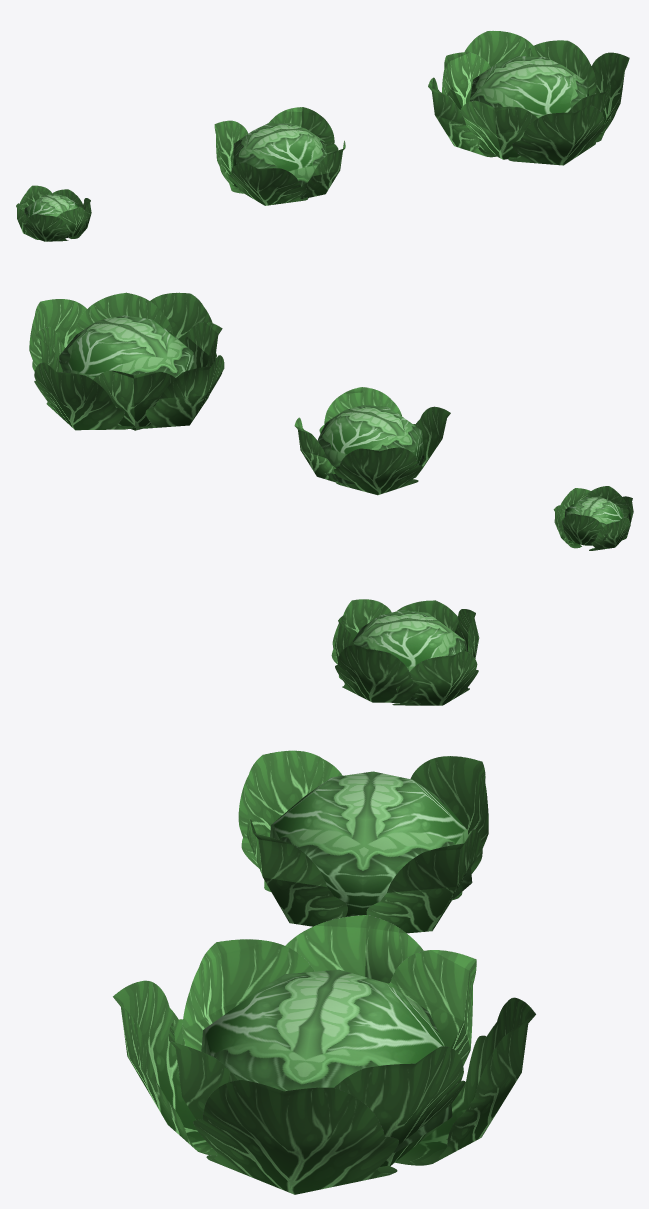
The model's file is Cabbage_Green_Lv.FBX.
3 views of the same model, one above another, from view 1: azimuth 30°, elevation 25°; view 2: azimuth 150°, elevation 25°; view 3: azimuth 270°, elevation 25° (orthographic). The views are drawn at different scales.
Parts seen in each view (by area): view 1: Cabbage_Green_Lv3, Cabbage_Green_Lv2, Cabbage_Green_Lv1; view 2: Cabbage_Green_Lv3, Cabbage_Green_Lv2, Cabbage_Green_Lv1; view 3: Cabbage_Green_Lv3, Cabbage_Green_Lv2, Cabbage_Green_Lv1.
Part boxes in pixels (x1=…): Cabbage_Green_Lv3: x1=428, y1=30, x2=629, y2=165; Cabbage_Green_Lv2: x1=214, y1=107, x2=345, y2=205; Cabbage_Green_Lv1: x1=16, y1=185, x2=91, y2=241; Cabbage_Green_Lv3: x1=29, y1=292, x2=224, y2=430; Cabbage_Green_Lv2: x1=294, y1=387, x2=450, y2=495; Cabbage_Green_Lv1: x1=553, y1=486, x2=633, y2=550; Cabbage_Green_Lv3: x1=113, y1=915, x2=535, y2=1194; Cabbage_Green_Lv2: x1=238, y1=750, x2=488, y2=933; Cabbage_Green_Lv1: x1=331, y1=599, x2=479, y2=705.
Size of the model in its own units: 209 by 28.08 by 69.29.
